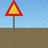sign: (4, 0, 23, 36)
